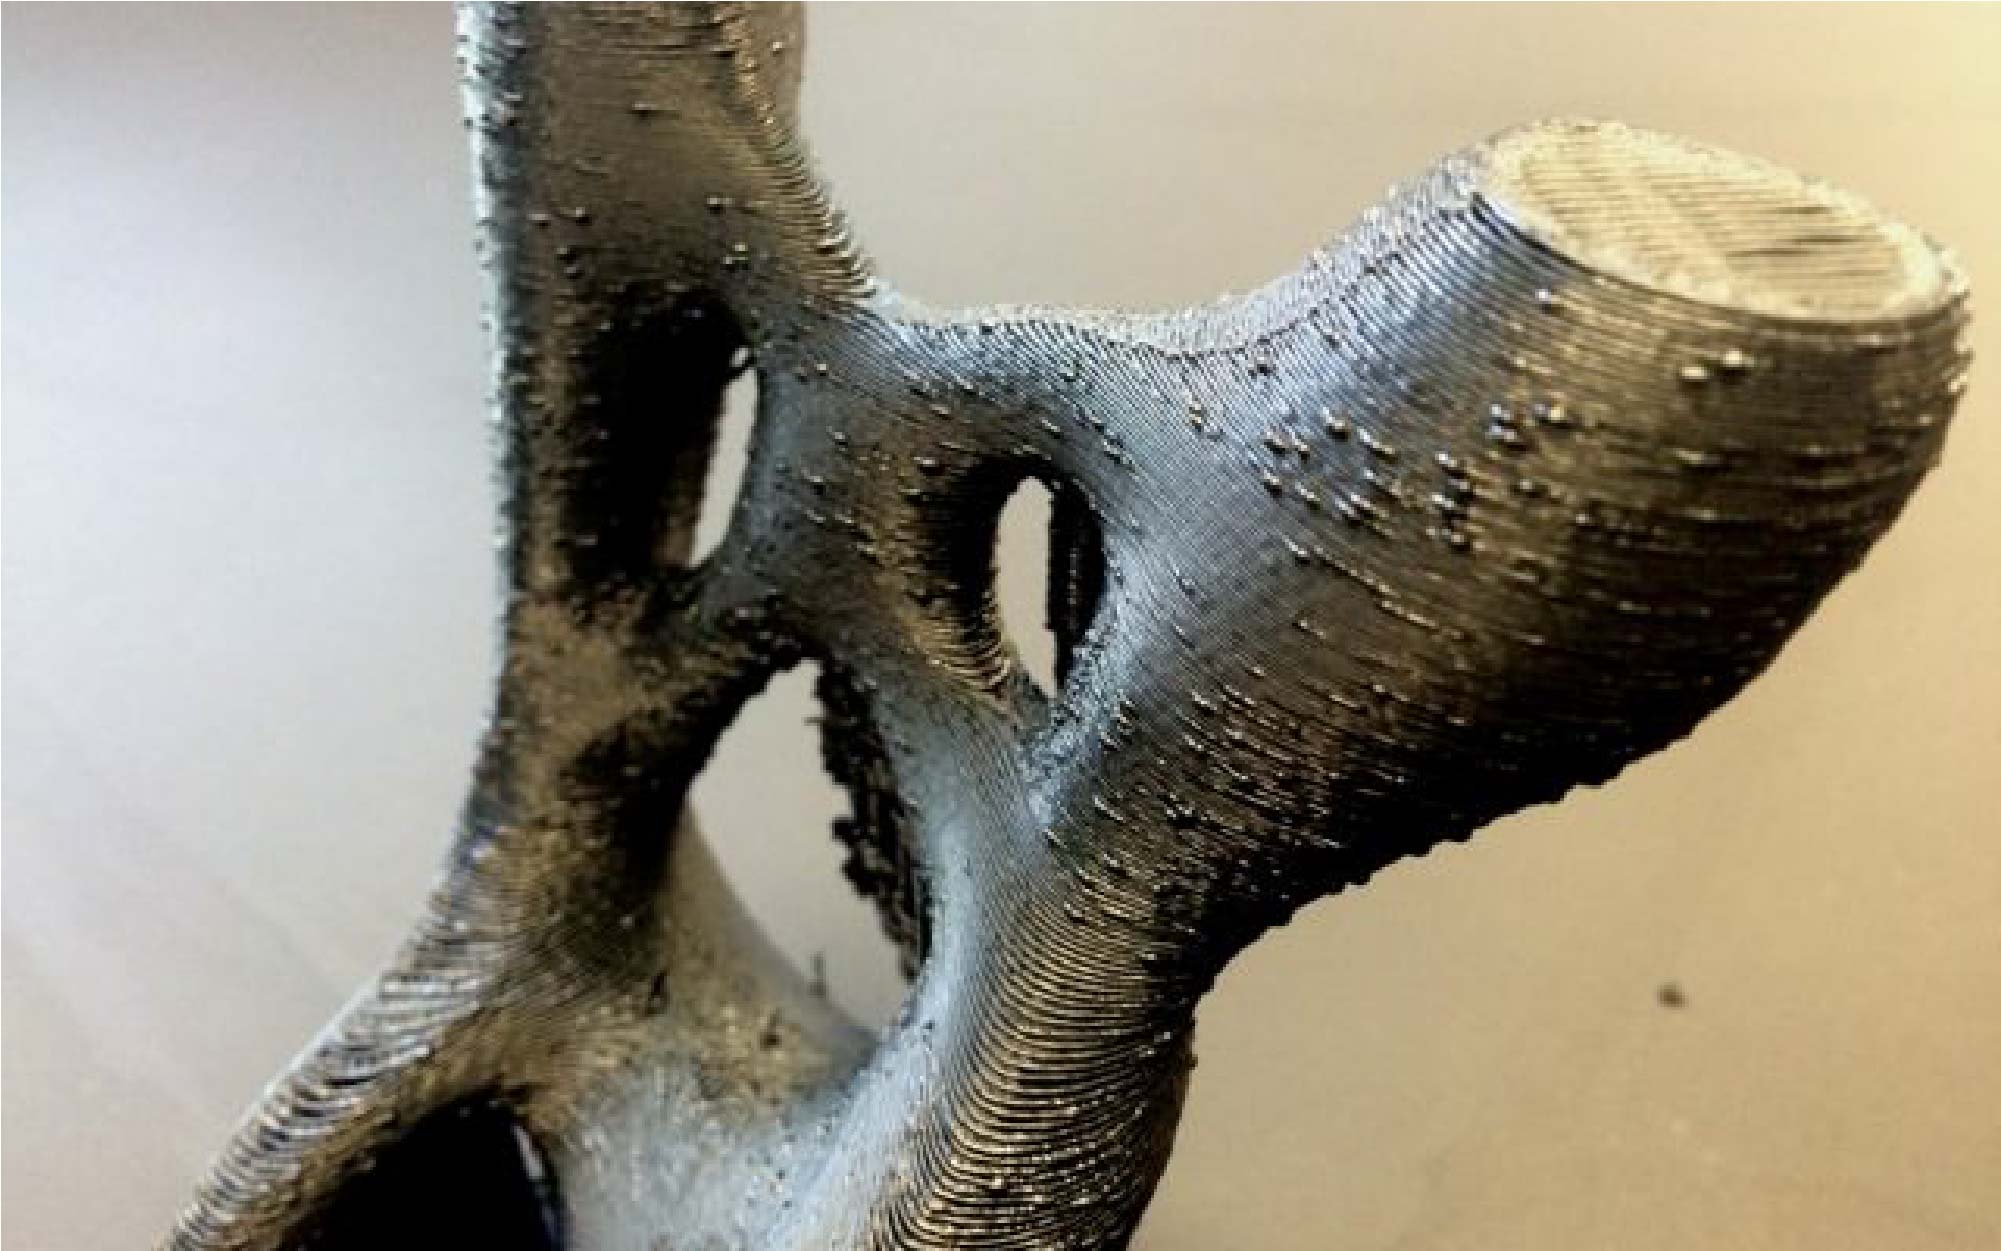blob: (1195, 400, 1400, 846), (1398, 350, 1657, 668), (1684, 335, 1895, 536), (1036, 788, 1179, 1051), (627, 77, 783, 288), (786, 400, 931, 579), (448, 22, 562, 242), (1009, 360, 1137, 521), (983, 1139, 1125, 1215)
